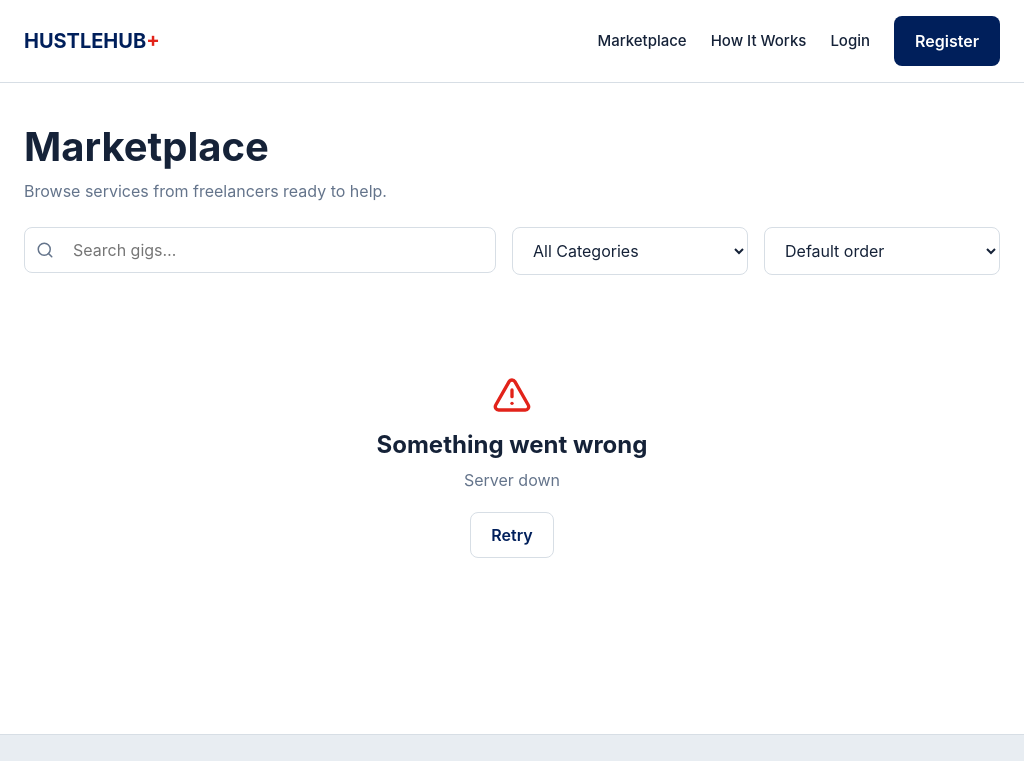
Test: Marketplace states › shows the error with a Retry that loads the gigs
Expected: the text "Server down" is shown, [464,468,560,492]
Expected: the text "Logo Design" is not shown
Click the button "Retry". click: (512, 535)
box: [470,512,554,558]
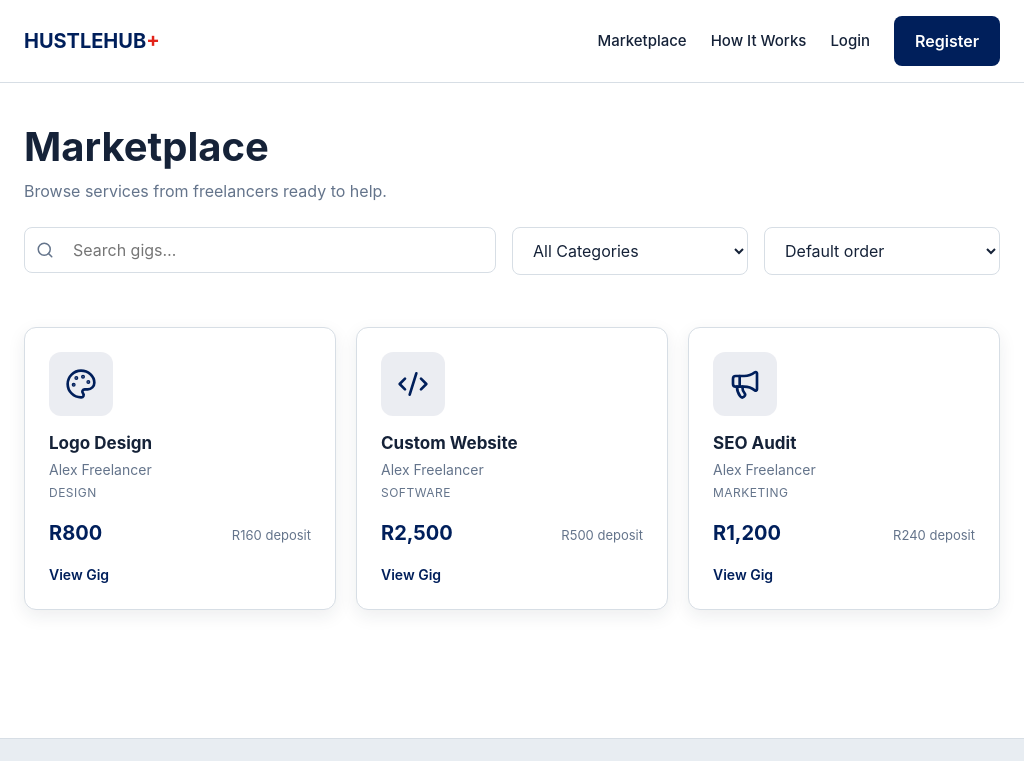
Now the heading "Logo Design" is shown, box [49,433,152,453]
